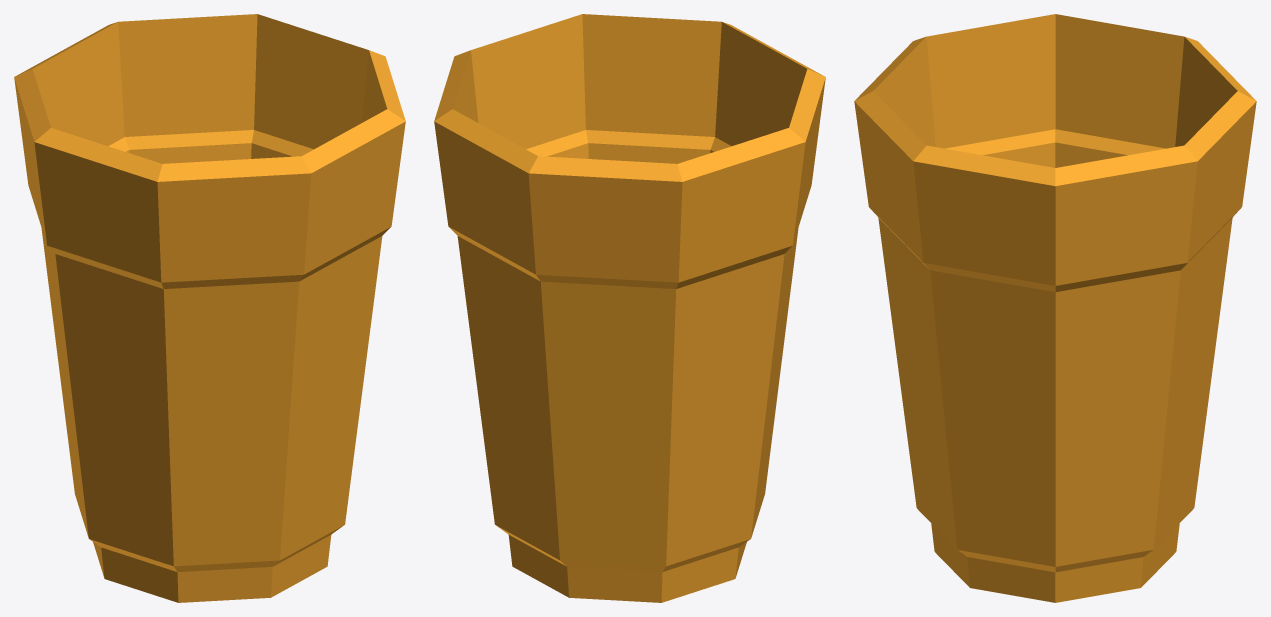
File: SM_Cup_Plastic_Empty.fbx
3 views of the same model, side by side, from view 1: azimuth 30°, elevation 25°; view 2: azimuth 150°, elevation 25°; view 3: azimuth 270°, elevation 25° (orthographic).
Parts seen in each view (by area): view 1: cup-plastic-empty; view 2: cup-plastic-empty; view 3: cup-plastic-empty.
Part boxes in pixels (x1,y1,x2,y2): cup-plastic-empty: [14, 14, 405, 602]; cup-plastic-empty: [434, 14, 825, 602]; cup-plastic-empty: [854, 14, 1256, 602].
Bounding box in the file's own units: 0.1114 × 0.1408 × 0.1114.
